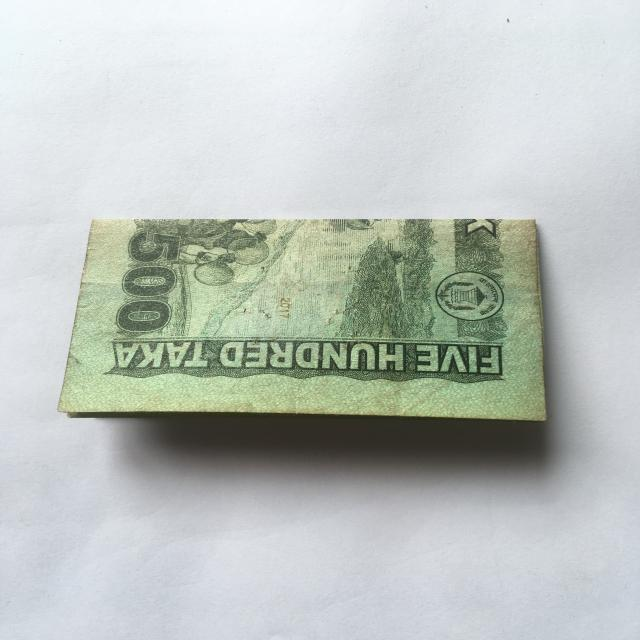Taka: (68, 210, 564, 424)
